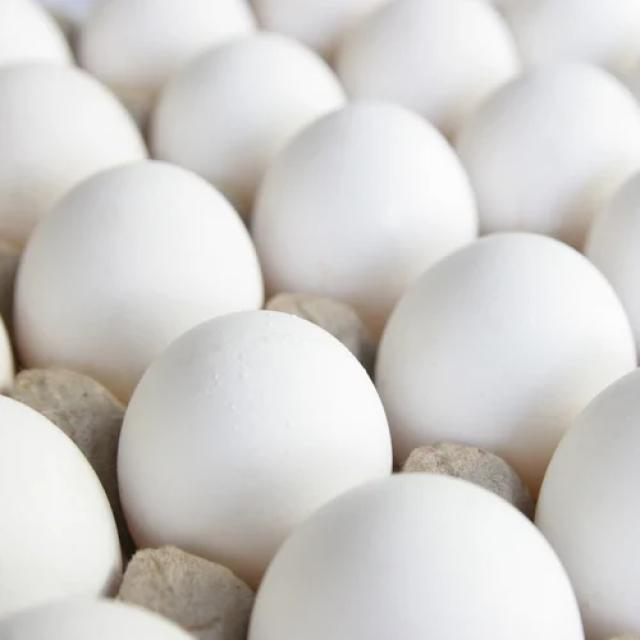Egg: (0, 0, 640, 640), (118, 311, 391, 586), (376, 234, 635, 492), (15, 160, 264, 402), (249, 474, 584, 640), (251, 102, 478, 330), (151, 32, 346, 217)
